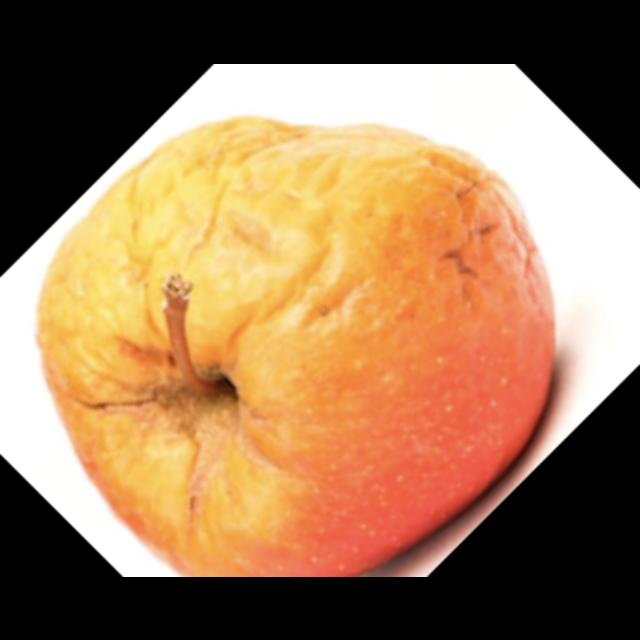Apel Tidak Segar: (12, 86, 618, 576)
